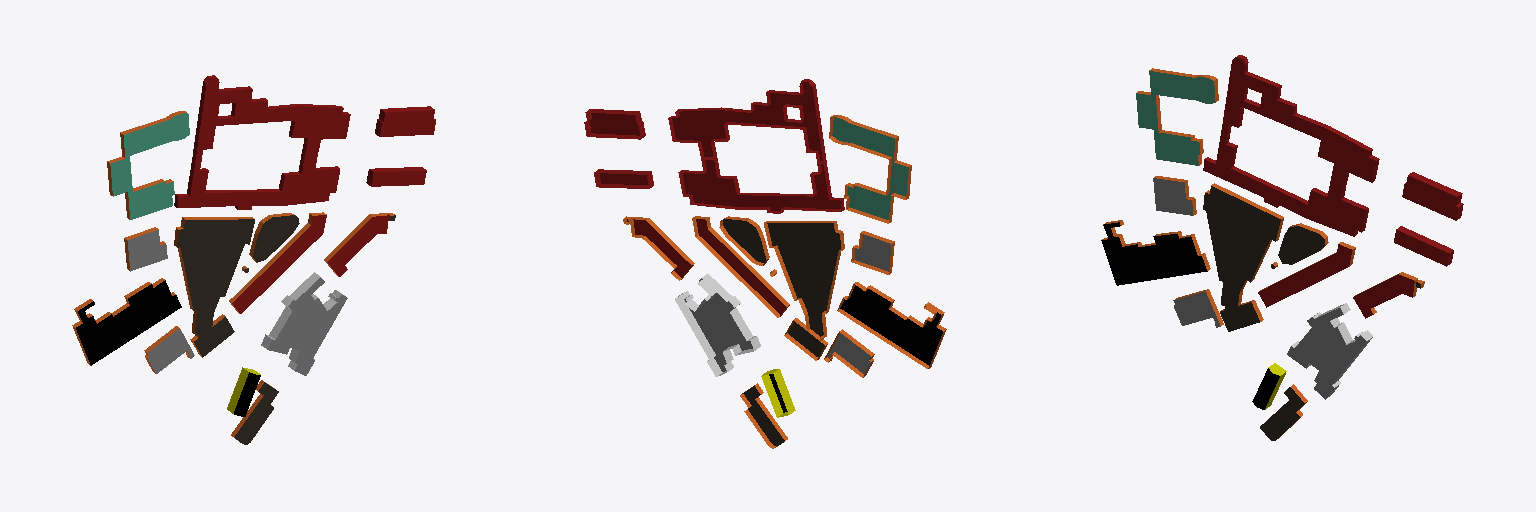
The model's file is kth_campus_just_buildings.obj.
The picture shows the model from 3 angles: view 1: azimuth 30°, elevation 25°; view 2: azimuth 150°, elevation 25°; view 3: azimuth 330°, elevation 25°; orthographic projection.
Bounding box in the file's own units: 0.3727 × 0.3723 × 0.015.